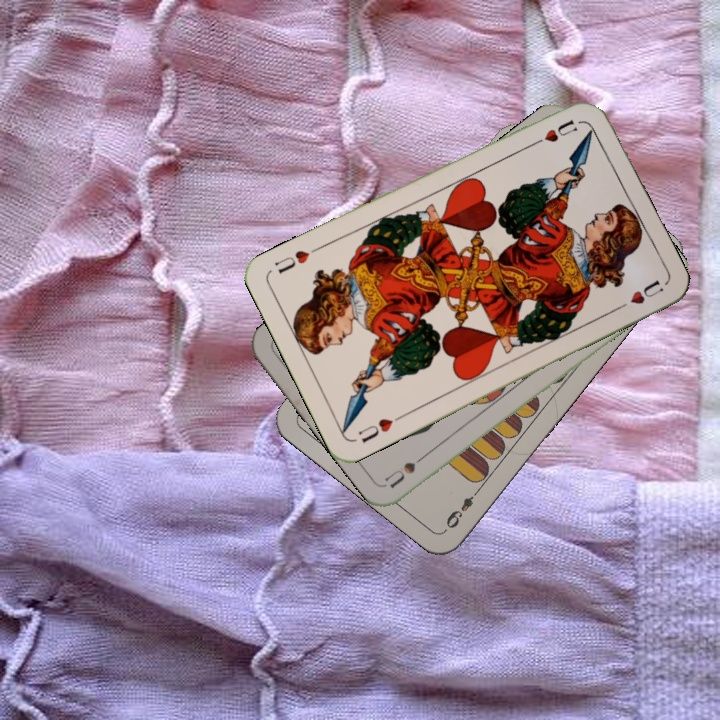E9: (441, 484, 483, 531)
HU: (354, 410, 406, 445), (540, 115, 580, 145)
SU: (381, 445, 435, 490)
